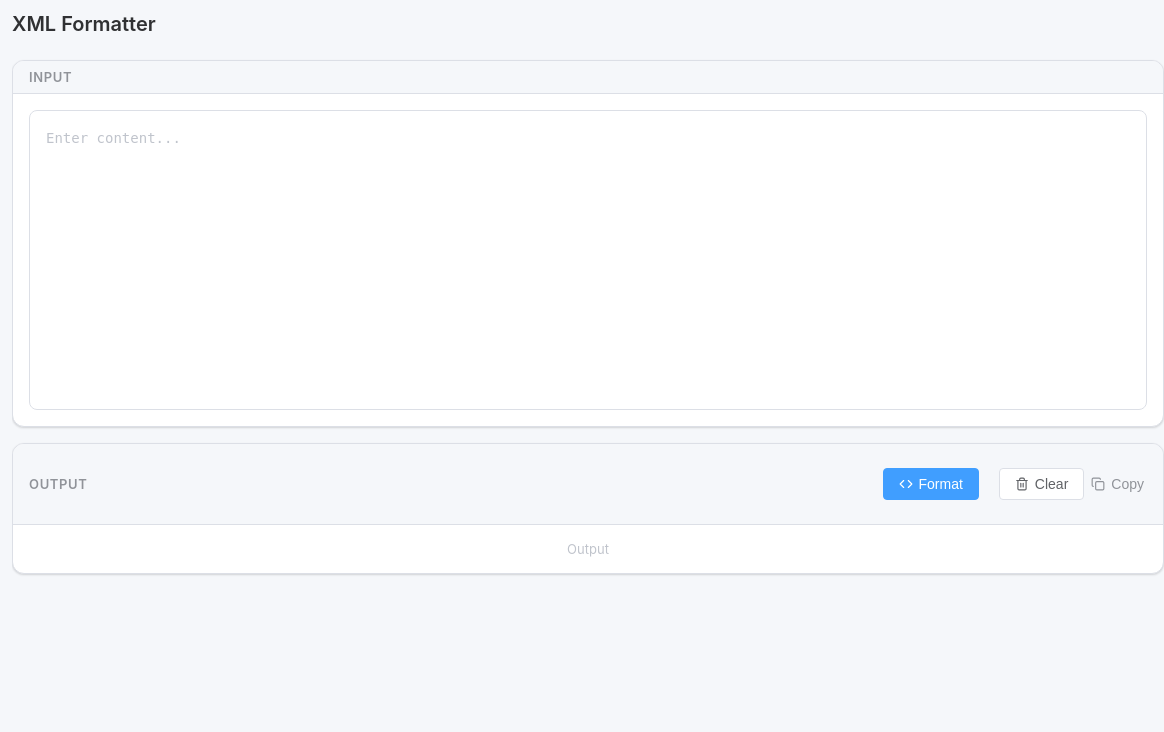
Test: XmlFormatter › should show error for invalid XML
Type "<root><unclosed>" into the text box with placeholder "Enter content..." at (588, 260), box [29,110,1147,410]
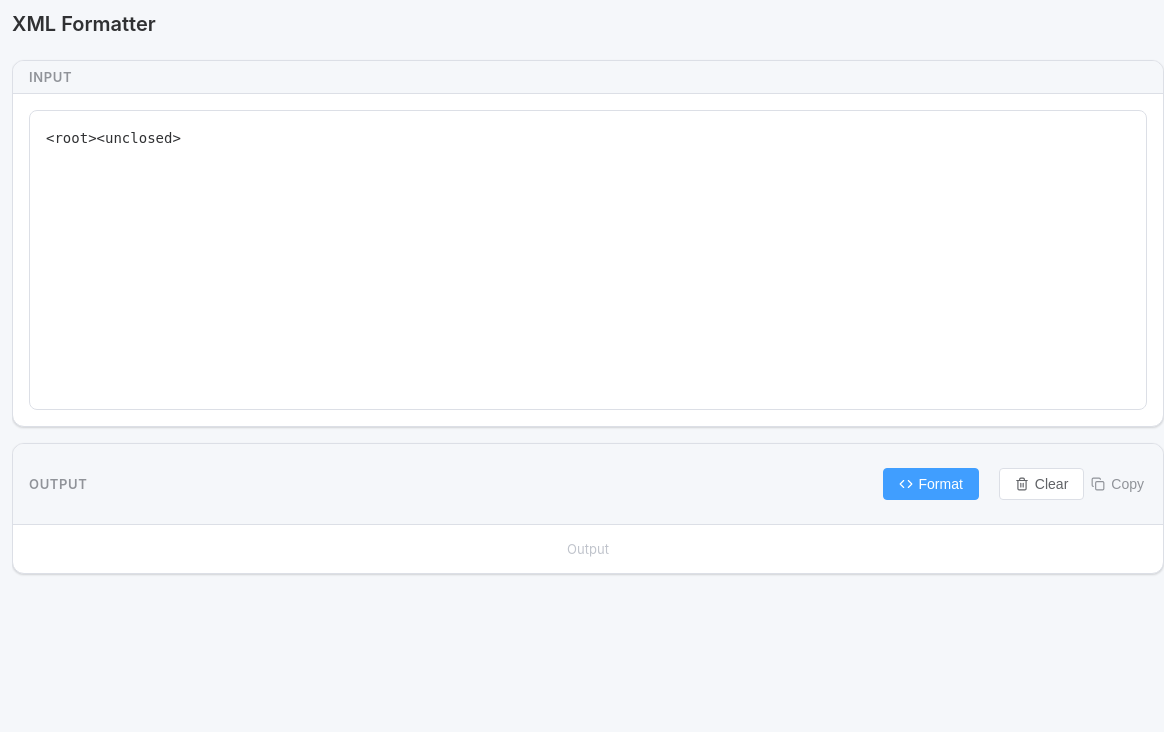
Click the button "Format" at (931, 484), box [882,468,979,500]
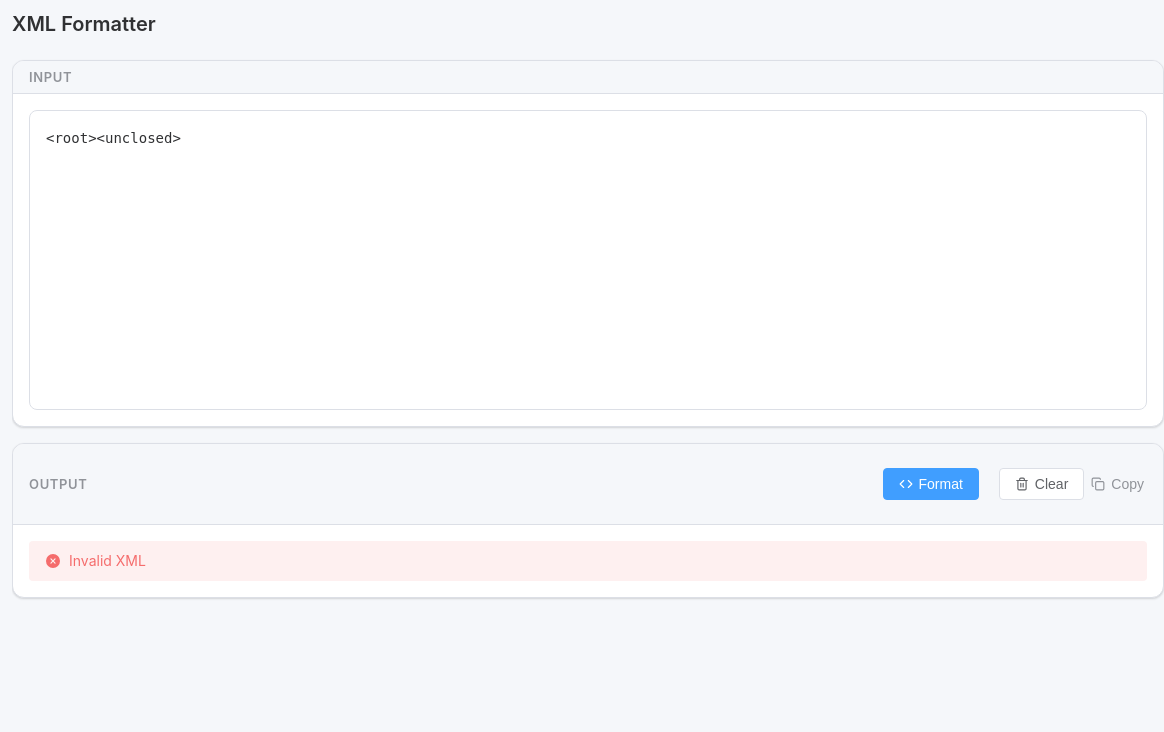
Expected: the message "Invalid XML" is shown, [29,541,1147,581]
